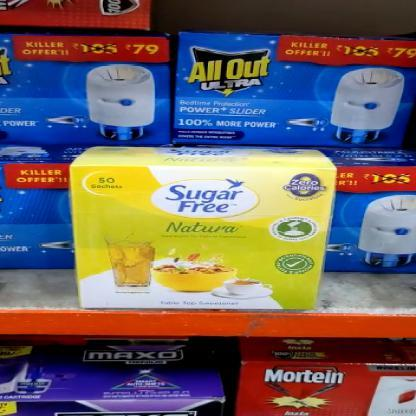SUGAR FREE NATURA SACHET 50: (74, 166, 334, 308)
